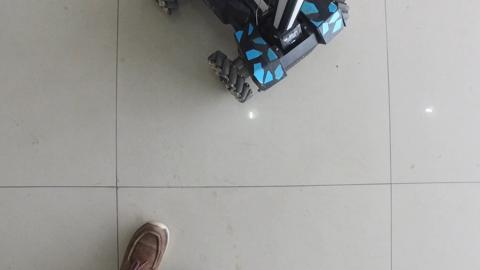chariot: (145, 2, 359, 104)
